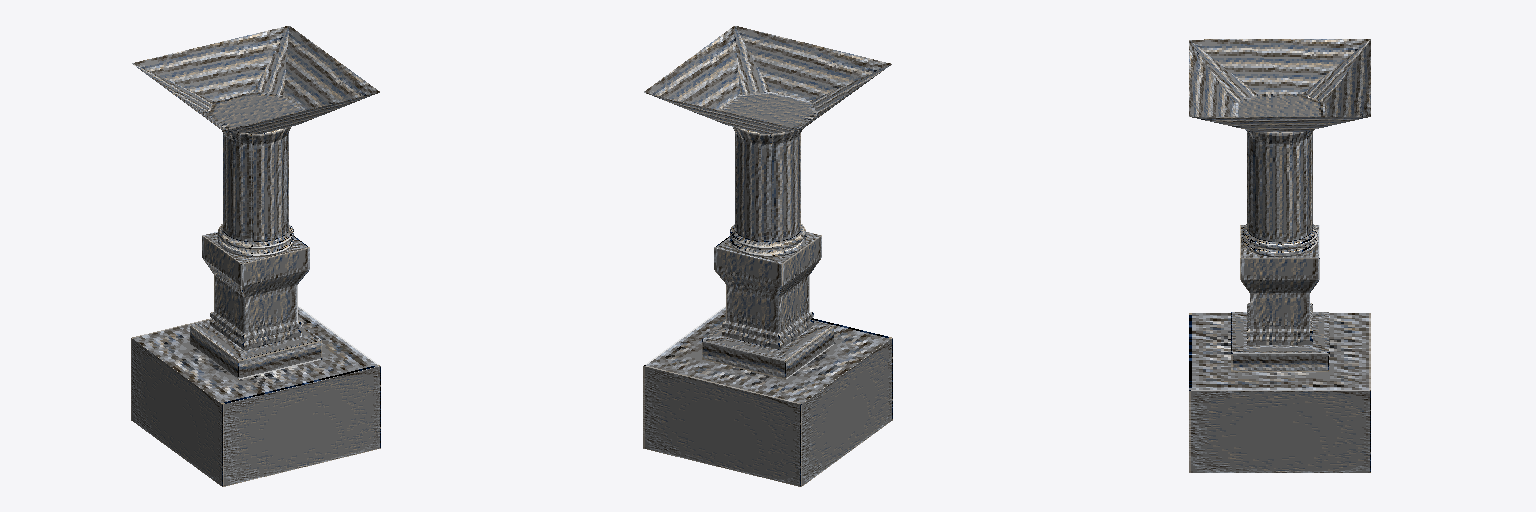
3 views of the same model, side by side, from view 1: azimuth 30°, elevation 25°; view 2: azimuth 150°, elevation 25°; view 3: azimuth 270°, elevation 25° (orthographic).
Parts seen in each view (by area): view 1: Pillar polySurface18, Pillar pCube4, pCylinder7 Pillar, Pillar WallEnd_0001:polySurface19, Pillar polySurface14, Pillar polySurface21, Pillar polySurface20, Pillar polySurface19, Pillar polySurface25, polySurface26; view 2: Pillar WallEnd_0001:polySurface18, Pillar pCube4, pCylinder7 Pillar, Pillar WallEnd_0001:polySurface19, Pillar polySurface14, Pillar polySurface19, Pillar polySurface20, Pillar polySurface21, Pillar polySurface24, Pillar polySurface23; view 3: Pillar WallEnd_0001:polySurface17, Pillar pCube4, pCylinder7 Pillar, Pillar polySurface14, Pillar polySurface22, Pillar polySurface21, Pillar polySurface19, Pillar polySurface20, polySurface26, Pillar polySurface23.
Part boxes in pixels (x1,y1,x2,y2): Pillar polySurface18: (223, 366, 380, 486); Pillar pCube4: (190, 232, 321, 379); pCylinder7 Pillar: (206, 92, 304, 256); Pillar WallEnd_0001:polySurface19: (131, 338, 222, 486); Pillar polySurface14: (132, 306, 379, 403); Pillar polySurface21: (132, 26, 288, 100); Pillar polySurface20: (284, 26, 379, 110); Pillar polySurface19: (224, 93, 377, 133); Pillar polySurface25: (253, 27, 288, 94); polySurface26: (133, 64, 213, 113); Pillar WallEnd_0001:polySurface18: (643, 366, 800, 486); Pillar pCube4: (702, 232, 833, 379); pCylinder7 Pillar: (719, 92, 817, 256); Pillar WallEnd_0001:polySurface19: (801, 338, 892, 486); Pillar polySurface14: (644, 306, 891, 403); Pillar polySurface19: (735, 26, 891, 100); Pillar polySurface20: (644, 26, 739, 109); Pillar polySurface21: (646, 93, 798, 133); Pillar polySurface24: (735, 27, 770, 94); Pillar polySurface23: (810, 65, 889, 113); Pillar WallEnd_0001:polySurface17: (1189, 390, 1370, 472); Pillar pCube4: (1231, 225, 1328, 371); pCylinder7 Pillar: (1235, 94, 1324, 257); Pillar polySurface14: (1189, 313, 1370, 389); Pillar polySurface22: (1190, 39, 1370, 93); Pillar polySurface21: (1325, 40, 1370, 116); Pillar polySurface19: (1189, 41, 1234, 116); Pillar polySurface20: (1192, 117, 1367, 131); polySurface26: (1303, 40, 1369, 102); Pillar polySurface23: (1189, 40, 1256, 102).
Bounding box in the file's own units: 6 × 12.95 × 6.
Materials: 3 (2 with a texture image).